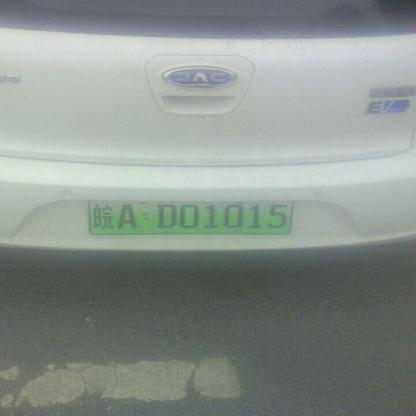lp: (86, 200, 292, 232)
